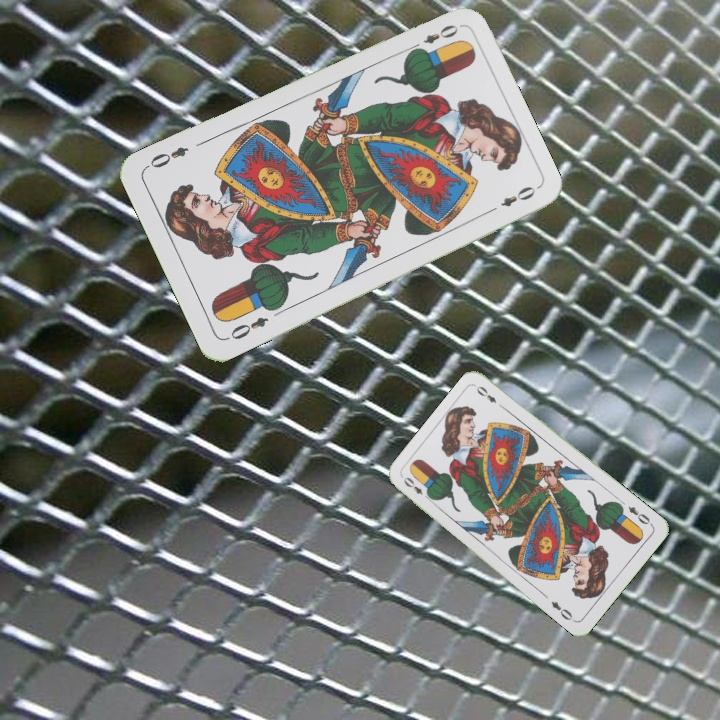EO: (406, 20, 461, 54), (222, 313, 271, 343), (399, 473, 434, 503), (624, 502, 655, 528)
